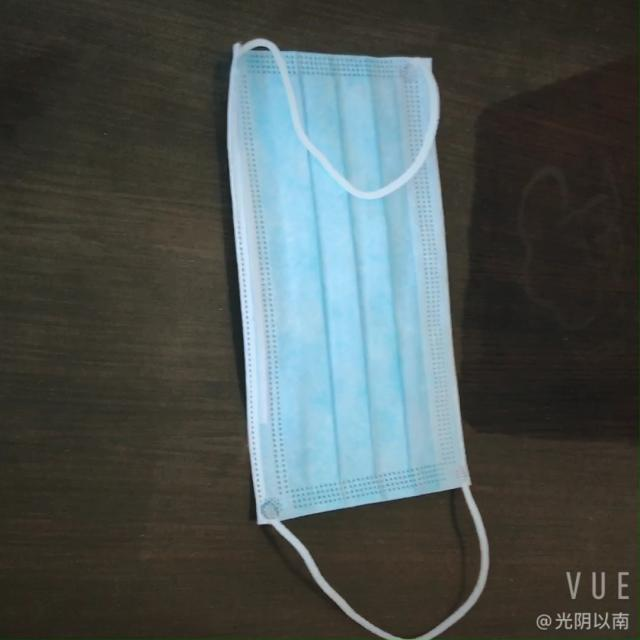non-organic waste: (226, 38, 485, 542)
